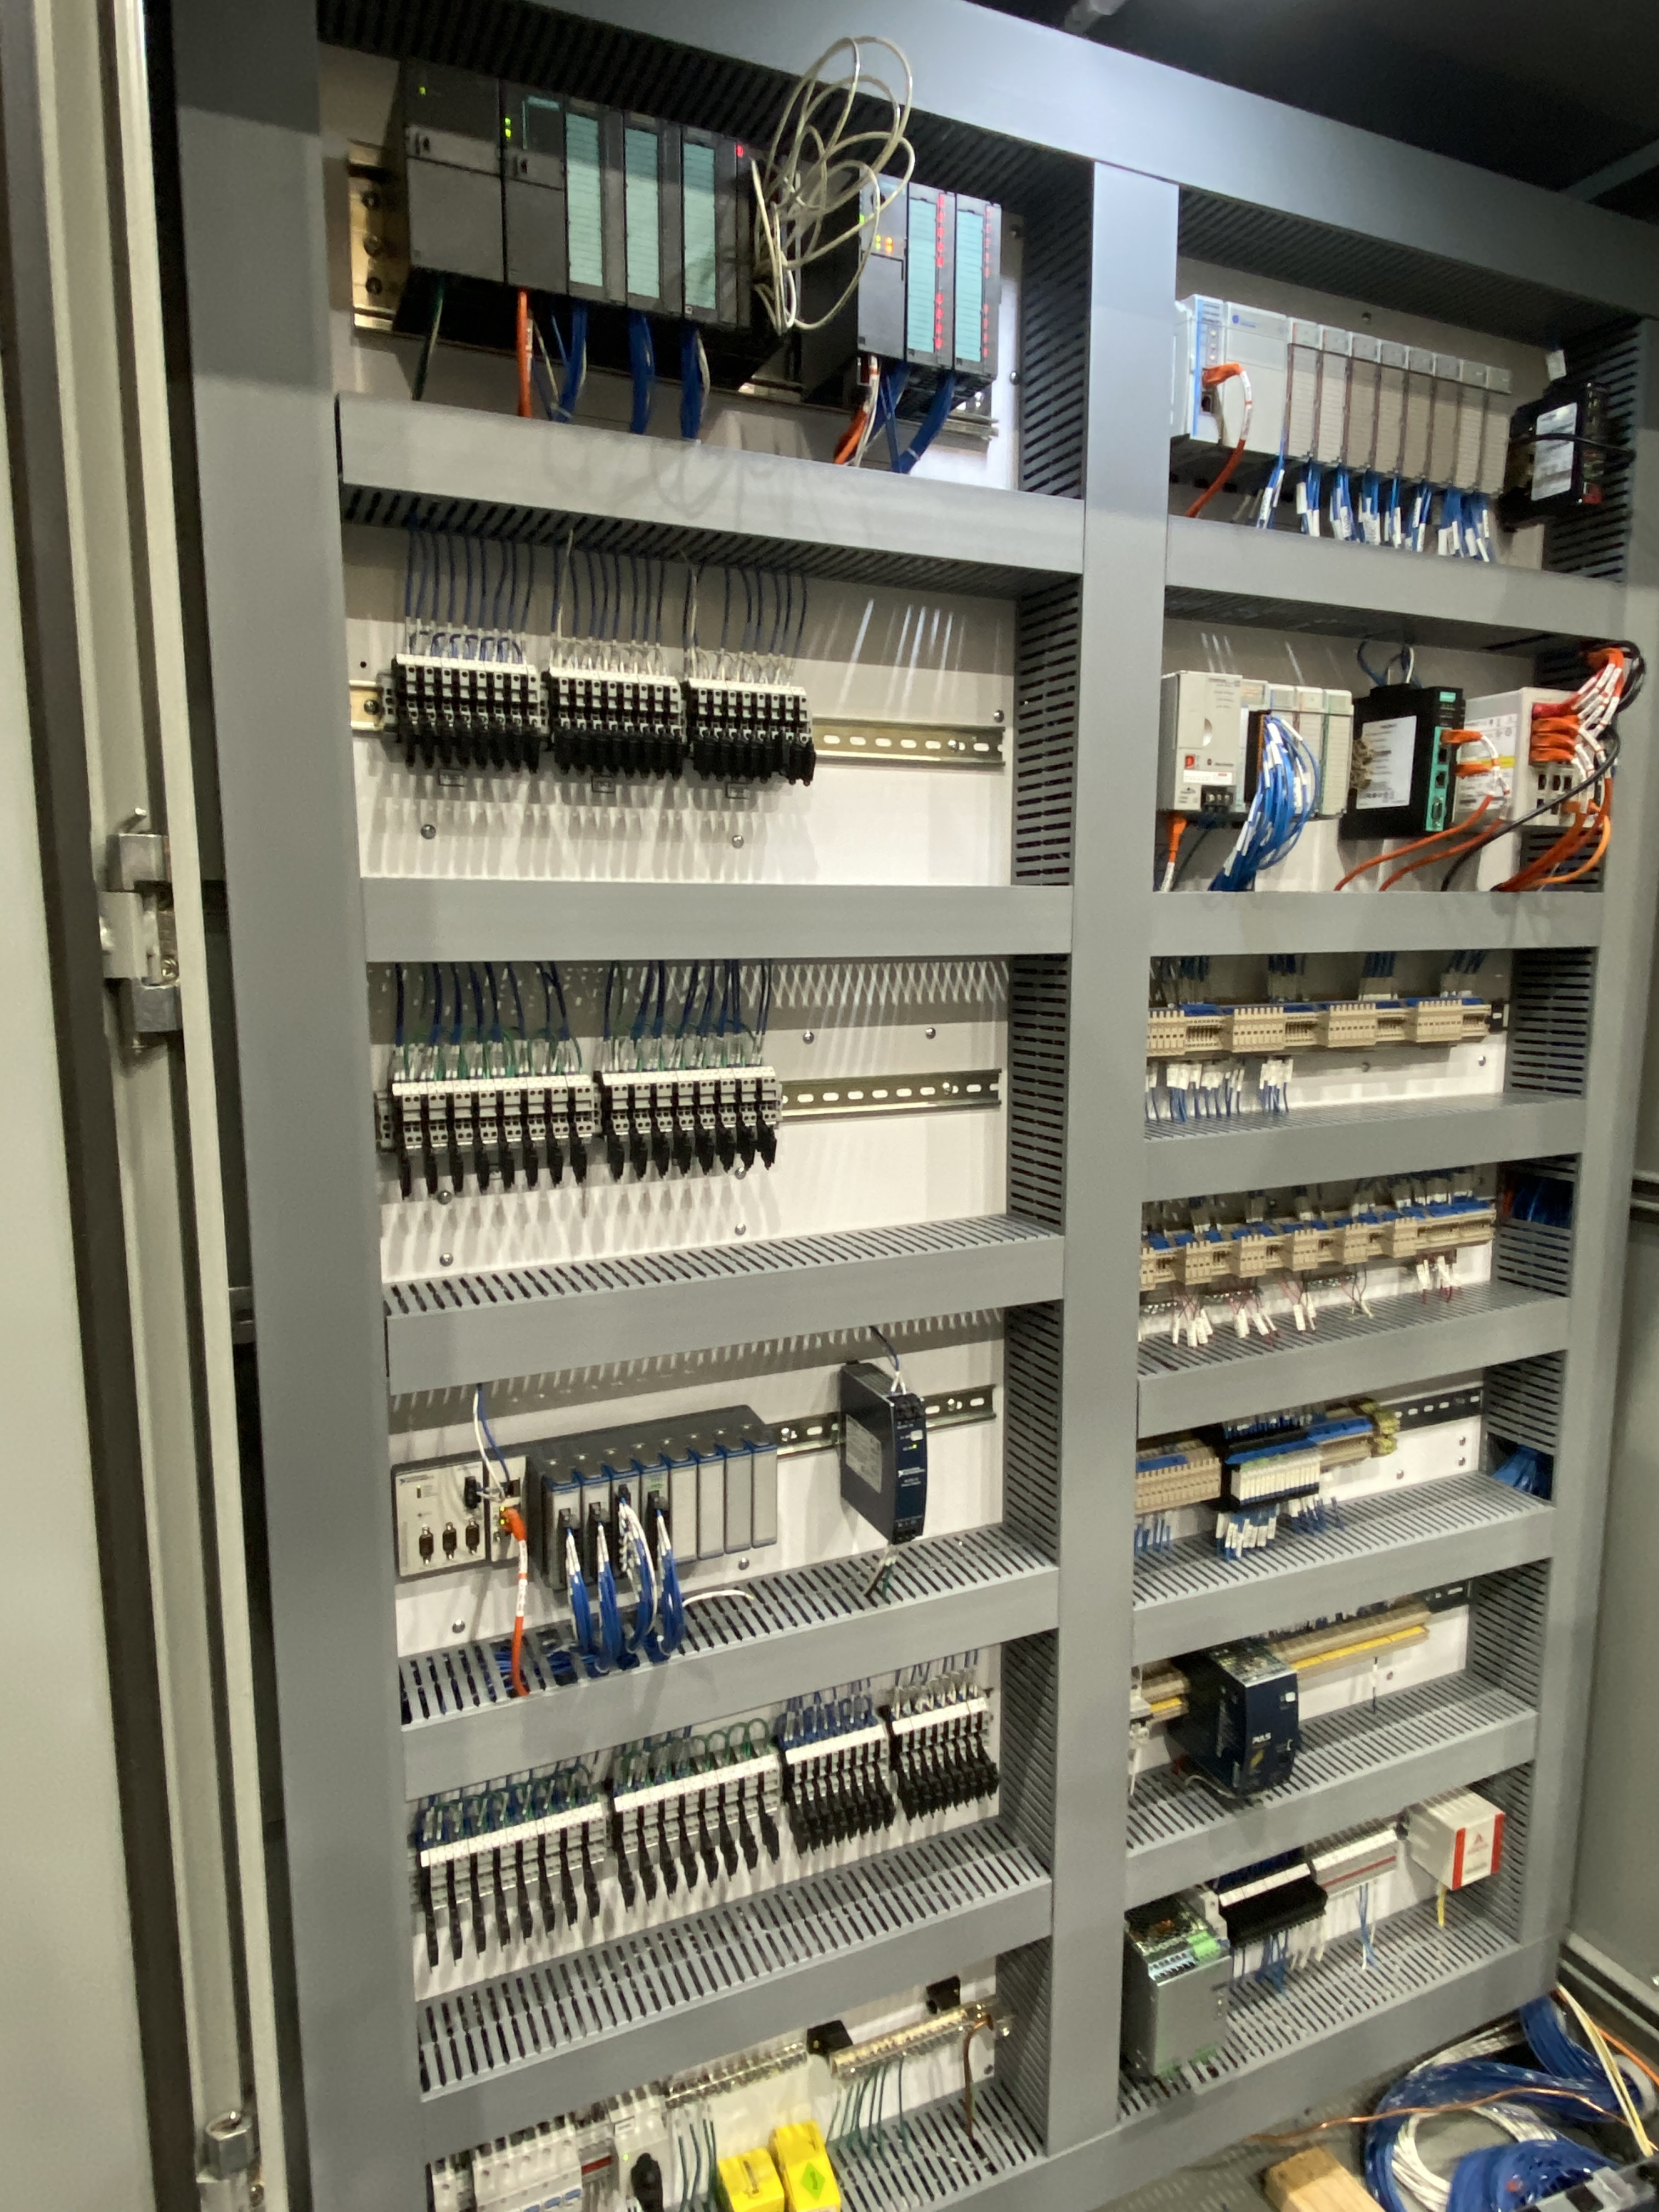AllenBradley: (1176, 665, 1246, 815)
Siemens: (504, 77, 570, 298)
